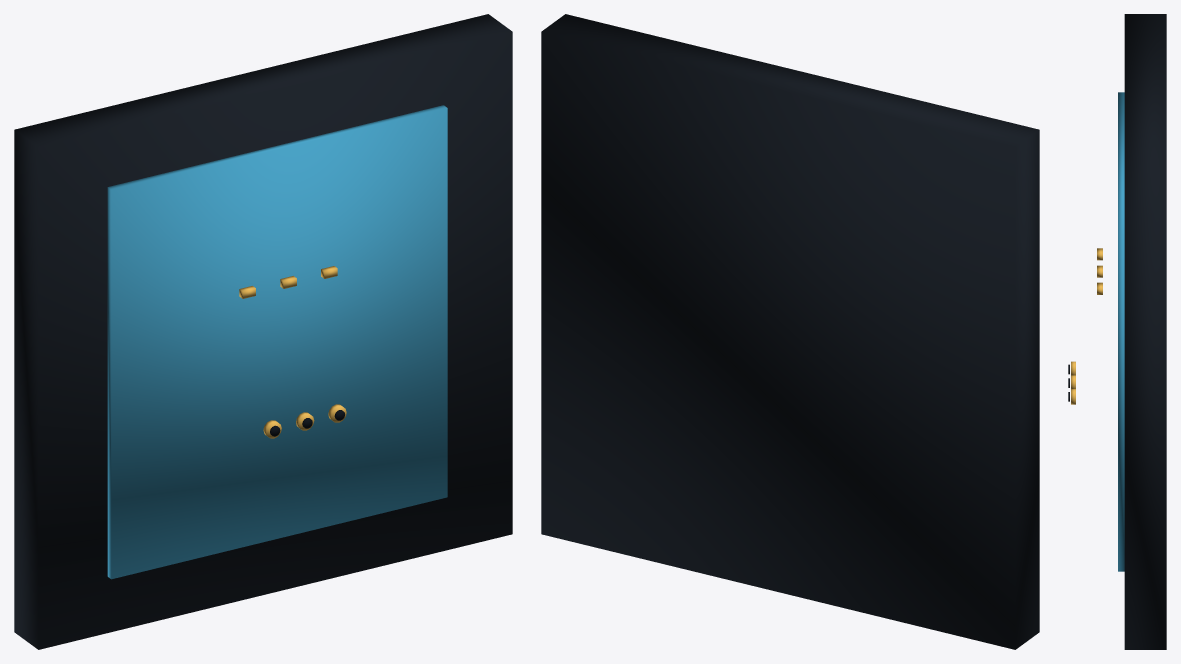
File: 30_L93_CTInterlockDoor.fbx
3 renders of one model, left to right at view 1: azimuth 30°, elevation 25°; view 2: azimuth 150°, elevation 25°; view 3: azimuth 270°, elevation 25°, orthographic. The views are drawn at different scales.
Parts seen in each view (by area): view 1: L92_CTInterlockDoor_Part_0001, L92_CTInterlockDoor_Part_0000; view 2: L92_CTInterlockDoor_Part_0000; view 3: L92_CTInterlockDoor_Part_0000, L92_CTInterlockDoor_Part_0001, L92_CTInterlockDoor_Part_0002.
Part boxes in pixels (x1,y1,x2,y2): L92_CTInterlockDoor_Part_0001: (107,105,447,579); L92_CTInterlockDoor_Part_0000: (14,14,512,649); L92_CTInterlockDoor_Part_0000: (541,14,1039,649); L92_CTInterlockDoor_Part_0000: (1124,14,1166,649); L92_CTInterlockDoor_Part_0001: (1118,92,1124,571); L92_CTInterlockDoor_Part_0002: (1097,248,1102,294).
Size of the model in its own units: 395 by 400 by 81.7.
